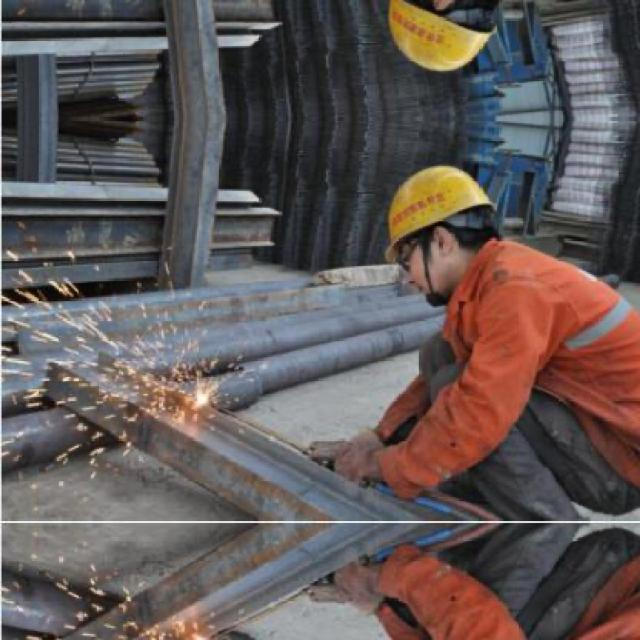helmet: (369, 152, 506, 305), (369, 0, 508, 83)
